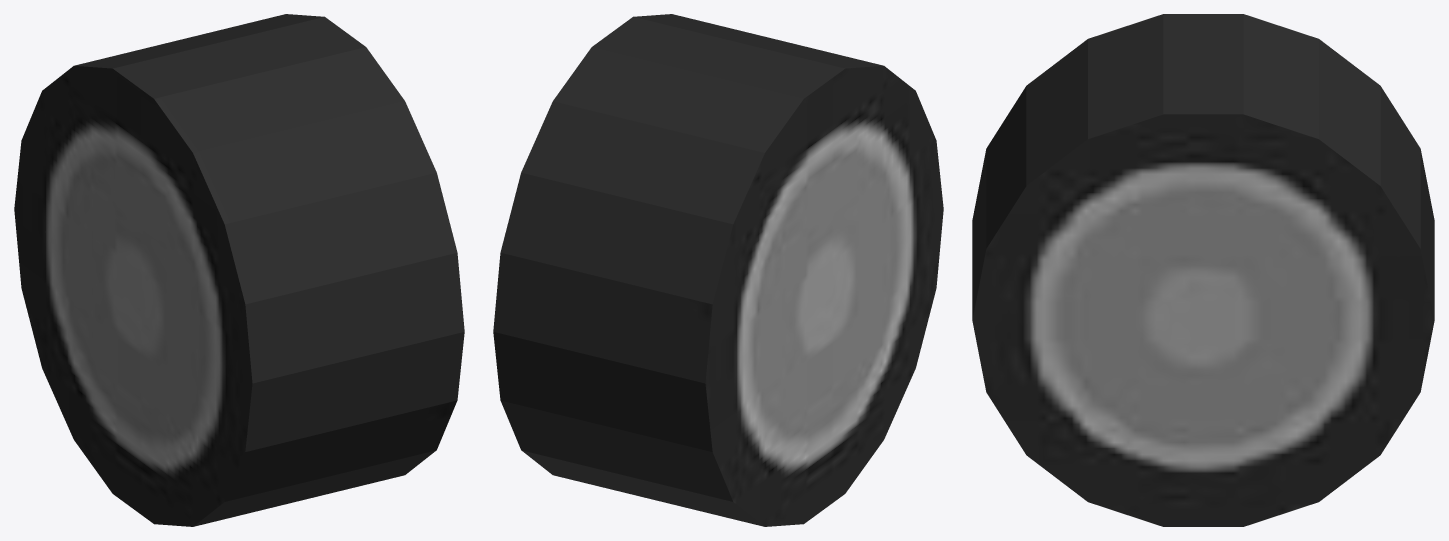
Rendered from carwheel.gltf.
3 views of the same model, side by side, from view 1: azimuth 30°, elevation 25°; view 2: azimuth 150°, elevation 25°; view 3: azimuth 270°, elevation 25° (orthographic). The views are drawn at different scales.
Visible parts, largest first — view 1: wheel; view 2: wheel; view 3: wheel.
Boxes of the visible parts, x1,y1,x2,y2 form: wheel: (14, 14, 464, 526); wheel: (493, 14, 943, 526); wheel: (972, 14, 1434, 526).
Size of the model in its own units: 16.1 by 30.83 by 31.31.
1 material, 1 textured.
